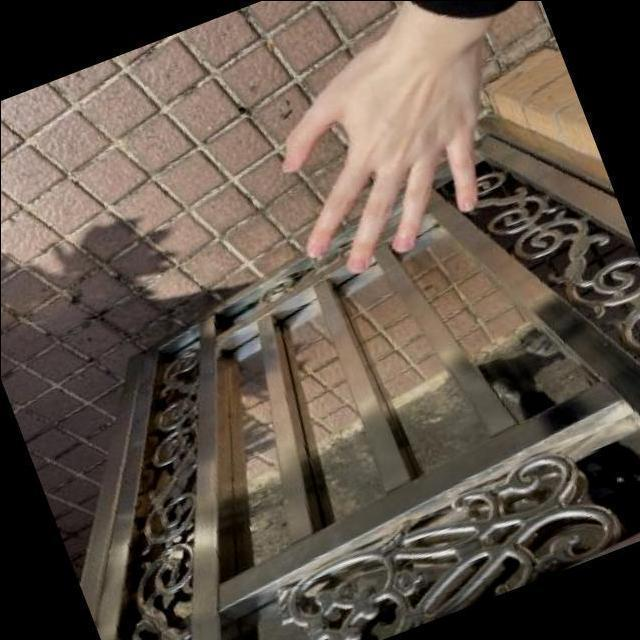hand: (232, 0, 548, 302)
